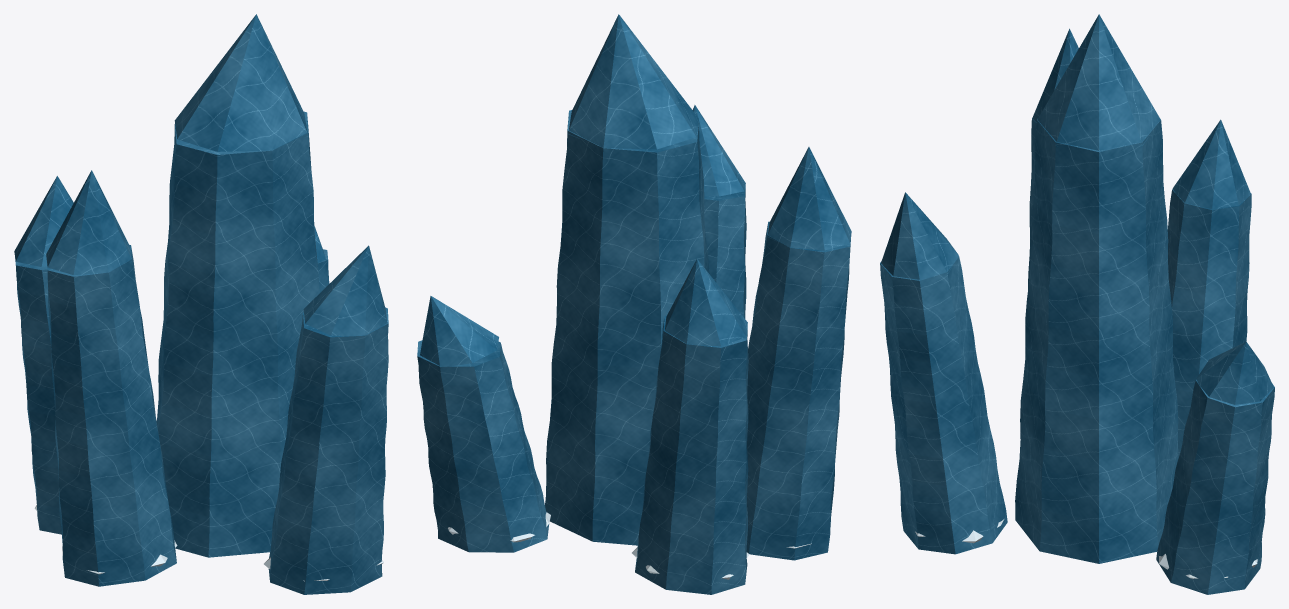
Rendered from BossRoom_GrandCrystal.fbx.
3 views of the same model, side by side, from view 1: azimuth 30°, elevation 25°; view 2: azimuth 150°, elevation 25°; view 3: azimuth 270°, elevation 25° (orthographic). The views are drawn at different scales.
Parts seen in each view (by area): view 1: WO_BossRoom_GrandCrystal_LOD0; view 2: WO_BossRoom_GrandCrystal_LOD0; view 3: WO_BossRoom_GrandCrystal_LOD0.
Part boxes in pixels (x1,y1,x2,y2): WO_BossRoom_GrandCrystal_LOD0: (14,14,388,594); WO_BossRoom_GrandCrystal_LOD0: (417,14,851,594); WO_BossRoom_GrandCrystal_LOD0: (880,14,1274,594).
Size of what is drawn, in the model's own units: 4.44 by 6 by 4.14.
